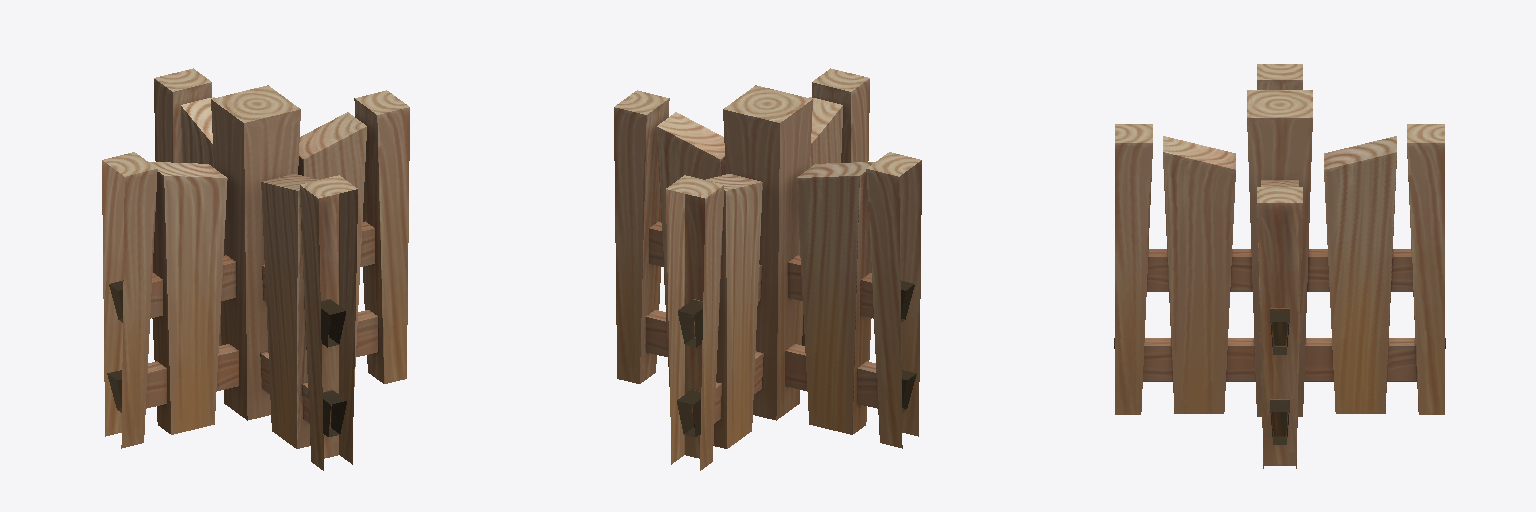
The picture shows the model from 3 angles: view 1: azimuth 30°, elevation 25°; view 2: azimuth 150°, elevation 25°; view 3: azimuth 270°, elevation 25°; orthographic projection.
Parts seen in each view (by area): view 1: fence2_corner4; view 2: fence2_corner4; view 3: fence2_corner4.
Boxes of the visible parts, <box> form: fence2_corner4: <box>102,68,409,470</box>; fence2_corner4: <box>614,68,921,470</box>; fence2_corner4: <box>1114,64,1445,468</box>.
Size of the model in its own units: 50.49 by 50.83 by 50.49.
1 materials, 1 textured.